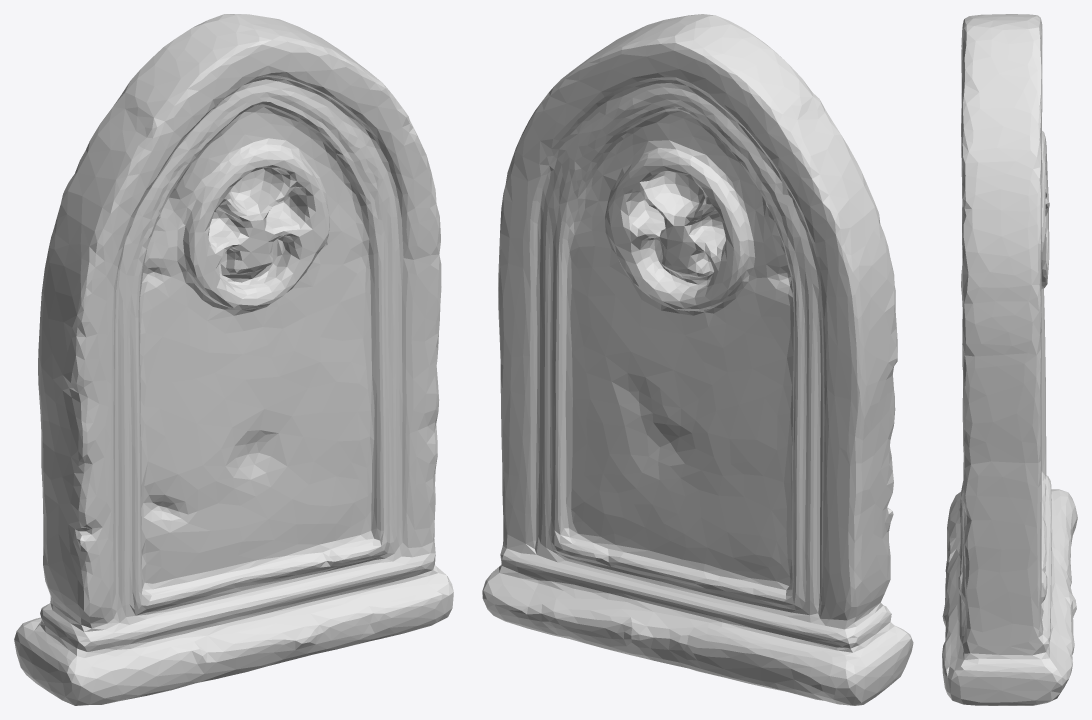
Rendered from tombstone_r1.glb.
The picture shows the model from 3 angles, left to right: view 1: azimuth 30°, elevation 25°; view 2: azimuth 150°, elevation 25°; view 3: azimuth 270°, elevation 25°; orthographic projection. The views are drawn at different scales.
Parts seen in each view (by area): view 1: Low; view 2: Low; view 3: Low.
Boxes of the visible parts, left/top/right/bottom form: Low: left=14, top=14, right=453, bottom=705; Low: left=482, top=14, right=913, bottom=705; Low: left=942, top=14, right=1077, bottom=705.
Size of the model in its own units: 1.28 by 1.99 by 0.4083.
1 material, 1 textured.
